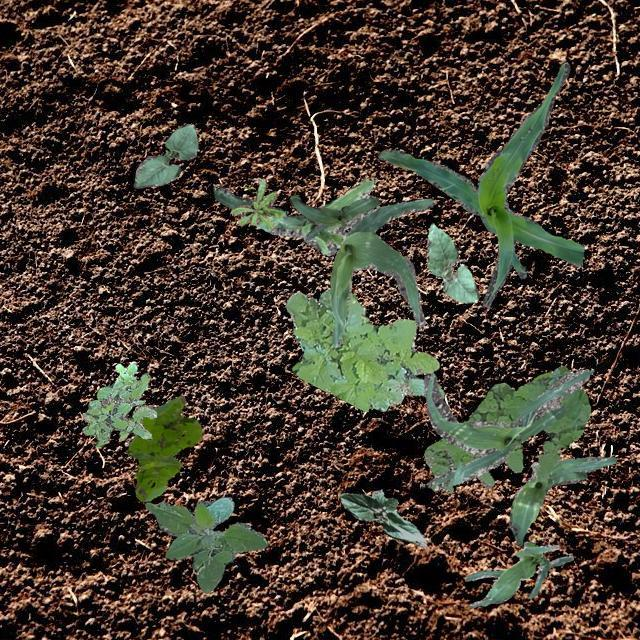crop: (378, 62, 582, 306), (422, 368, 592, 489), (328, 198, 434, 346), (212, 178, 372, 254), (144, 496, 266, 592), (508, 456, 616, 546), (463, 540, 572, 606), (338, 488, 426, 546), (426, 222, 478, 302), (132, 124, 196, 188), (288, 194, 379, 238)
weed: (422, 364, 590, 492), (284, 290, 444, 410), (126, 394, 202, 500), (81, 361, 156, 446), (230, 178, 282, 228), (532, 372, 552, 379)
